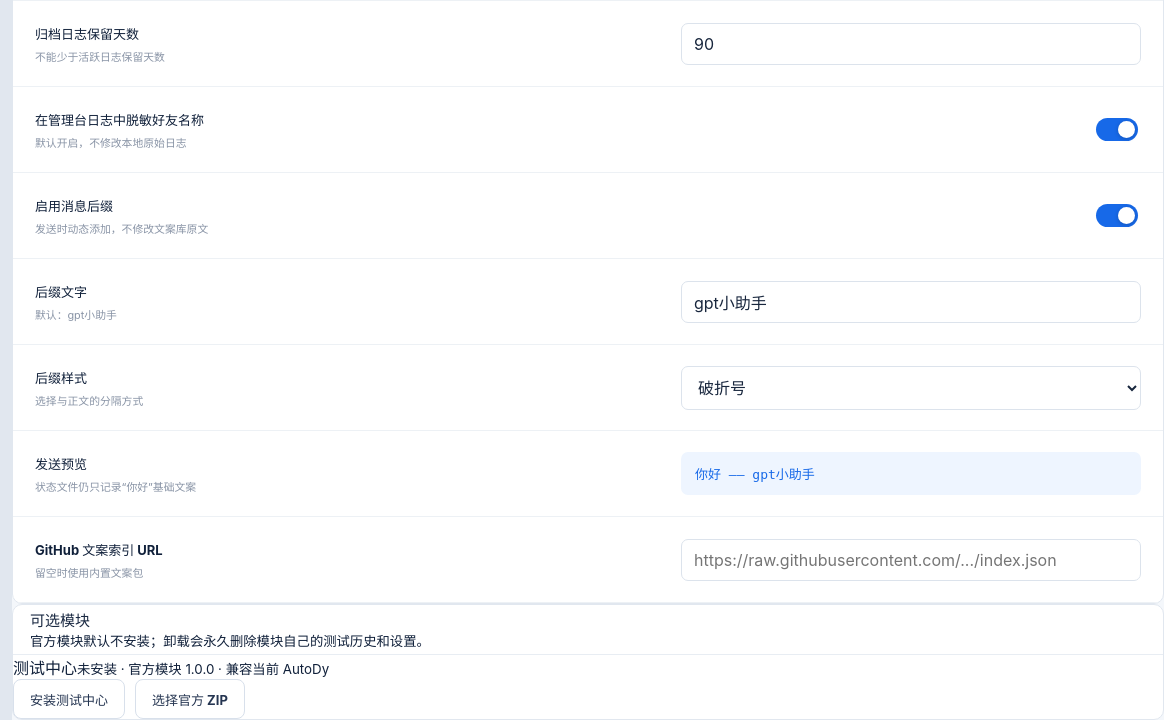
shows a live suffix preview for every style
(page scrolled)
Check: the text "你好 —— gpt小助手" is shown, box [681,452,1141,495]
Select "方括号" in the dropdown labelled "后缀样式" at (911,388), box [681,366,1141,410]
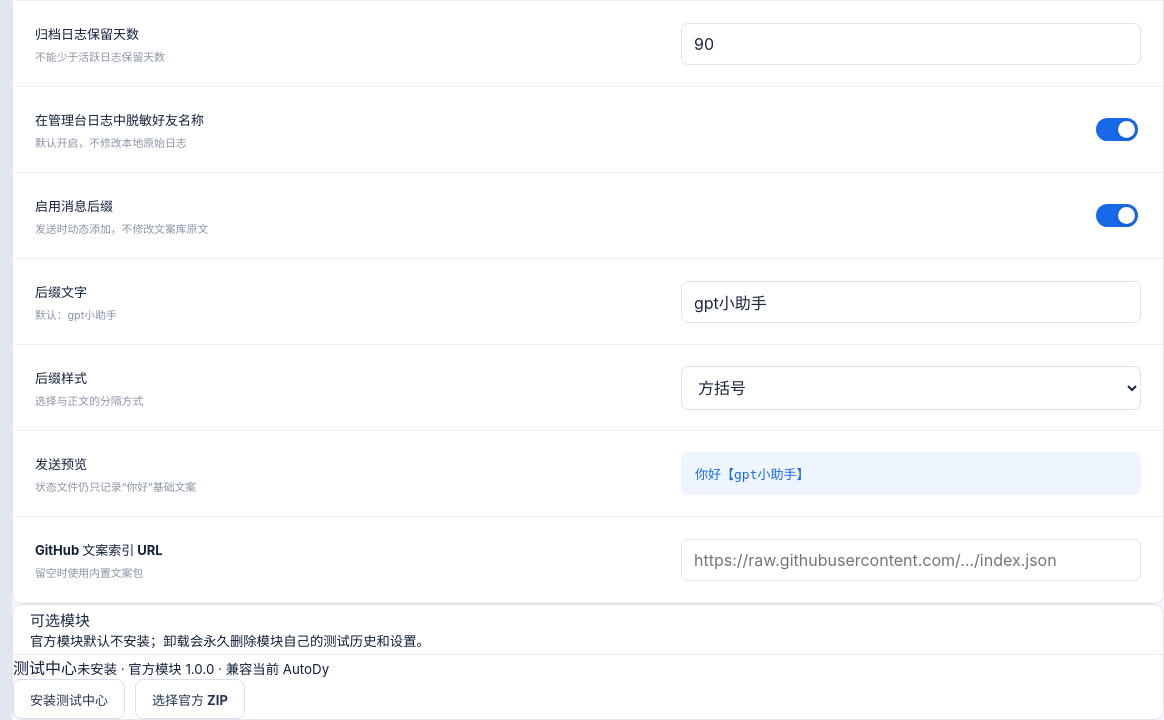
Check: the text "你好【gpt小助手】" is shown, box [681,452,1141,495]
